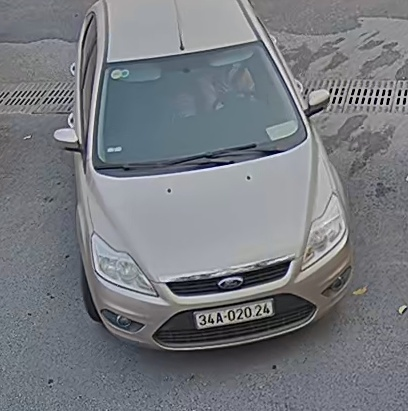vehicle plate: (190, 298, 278, 329)
